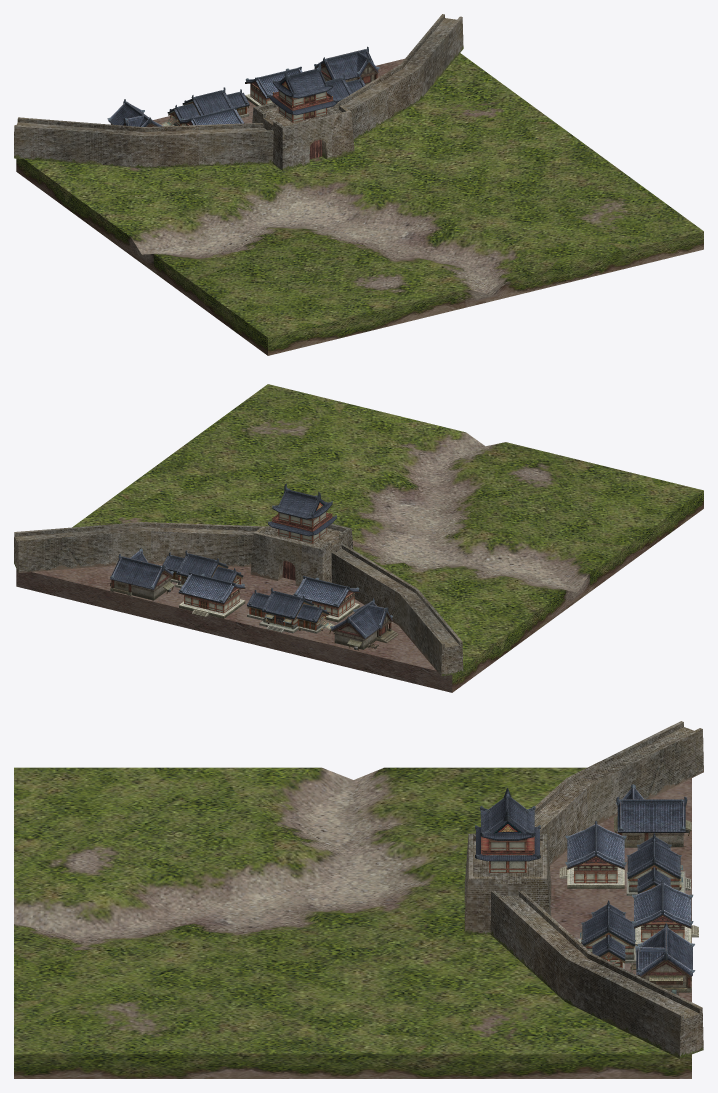
Rendered from map016.FBX.
3 renders of one model, top to bottom at view 1: azimuth 30°, elevation 25°; view 2: azimuth 150°, elevation 25°; view 3: azimuth 270°, elevation 25°, orthographic. The views are drawn at different scales.
Parts seen in each view (by area): view 1: map016, Box083, house209, house205, house207, house206; view 2: map016, Box083, house205, house207, house206, house209; view 3: map016, Box083, house206, house205, house207, house209.
Part boxes in pixels (left/top/right/bottom): map016: left=16, top=53, right=703, bottom=355; Box083: left=14, top=14, right=463, bottom=170; house209: left=268, top=63, right=337, bottom=122; house205: left=107, top=46, right=379, bottom=126; house207: left=159, top=74, right=365, bottom=126; house206: left=180, top=66, right=302, bottom=125; map016: left=16, top=384, right=703, bottom=692; Box083: left=14, top=522, right=463, bottom=676; house205: left=110, top=548, right=398, bottom=650; house207: left=158, top=550, right=334, bottom=633; house206: left=178, top=572, right=359, bottom=622; house209: left=268, top=483, right=336, bottom=543; map016: left=14, top=767, right=691, bottom=1078; Box083: left=464, top=721, right=703, bottom=1058; house206: left=559, top=821, right=698, bottom=945; house205: left=614, top=784, right=695, bottom=995; house207: left=577, top=833, right=691, bottom=968; house209: left=475, top=788, right=540, bottom=872.
Size of the model in its own units: 103 by 22.44 by 102.
